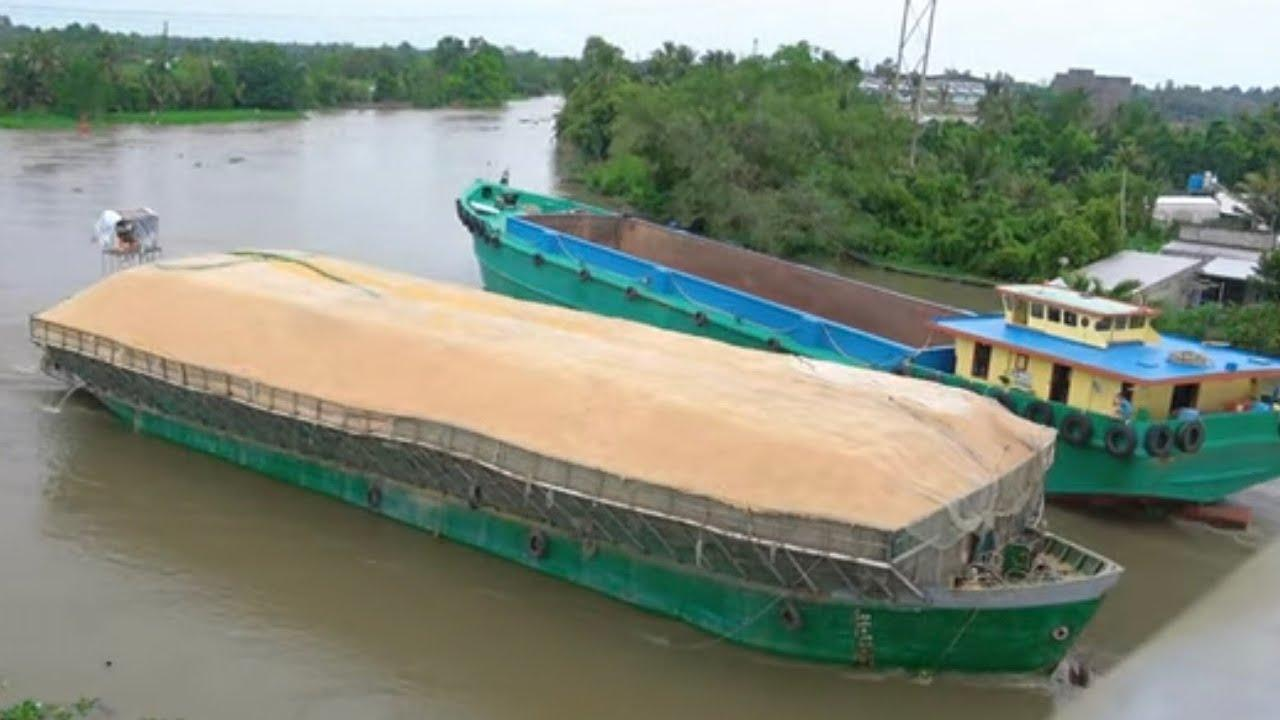Ship: (34, 254, 1121, 674), (459, 181, 1280, 502)
